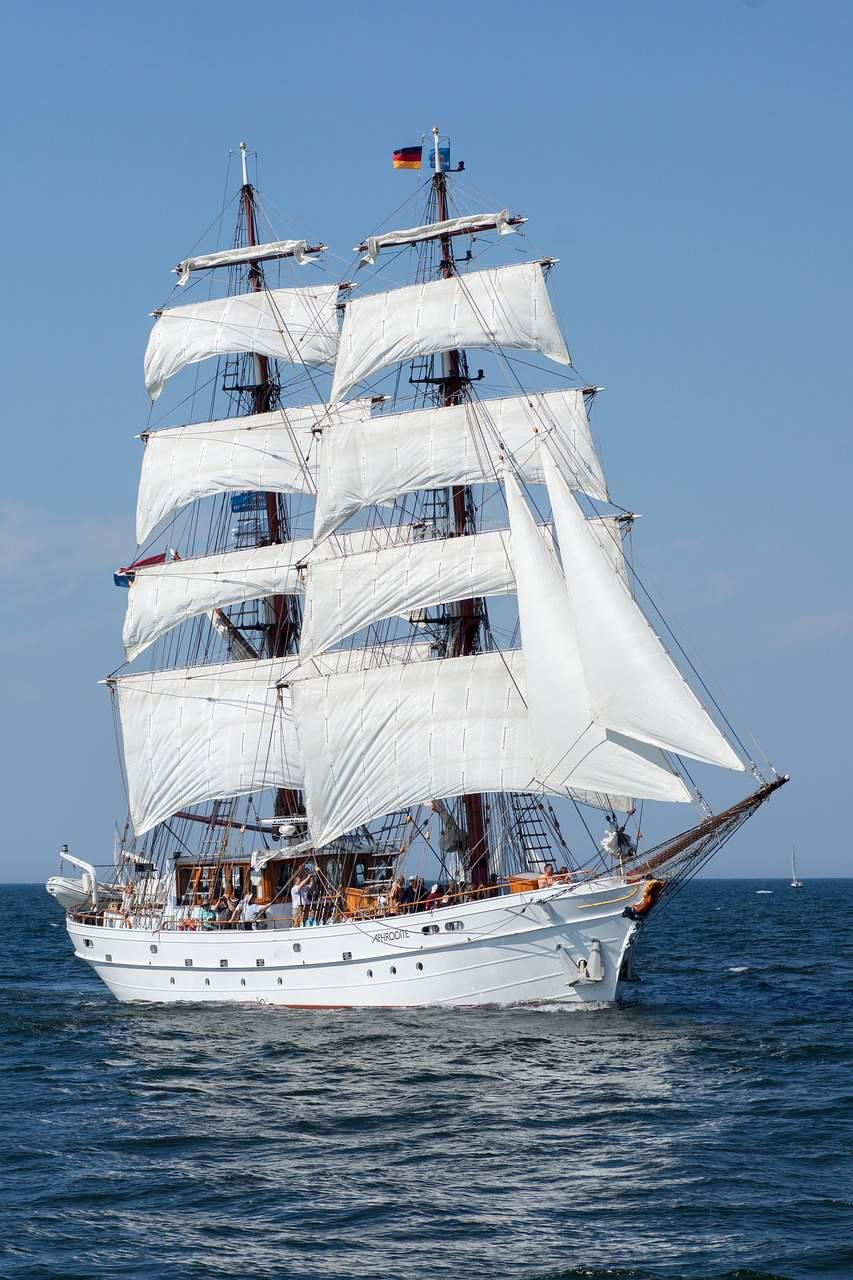Ship: (46, 125, 790, 1007)
